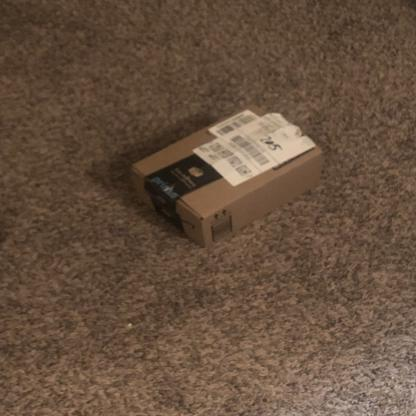package: (97, 93, 362, 267)
